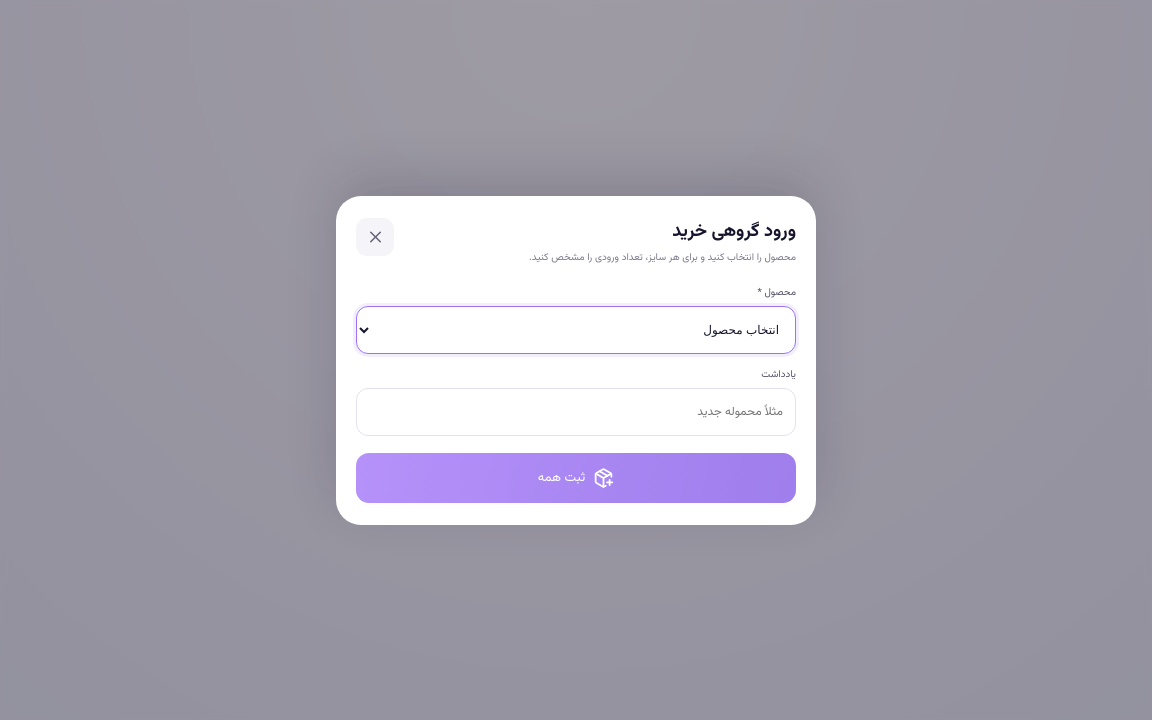
Test: BatchPurchaseModal › shows no default sizes and opens the sizes for the selected product category
Select "Air Max" in the dropdown labelled "محصول *" at point(576, 330), box top-left (356, 306), bottom-right (796, 354)
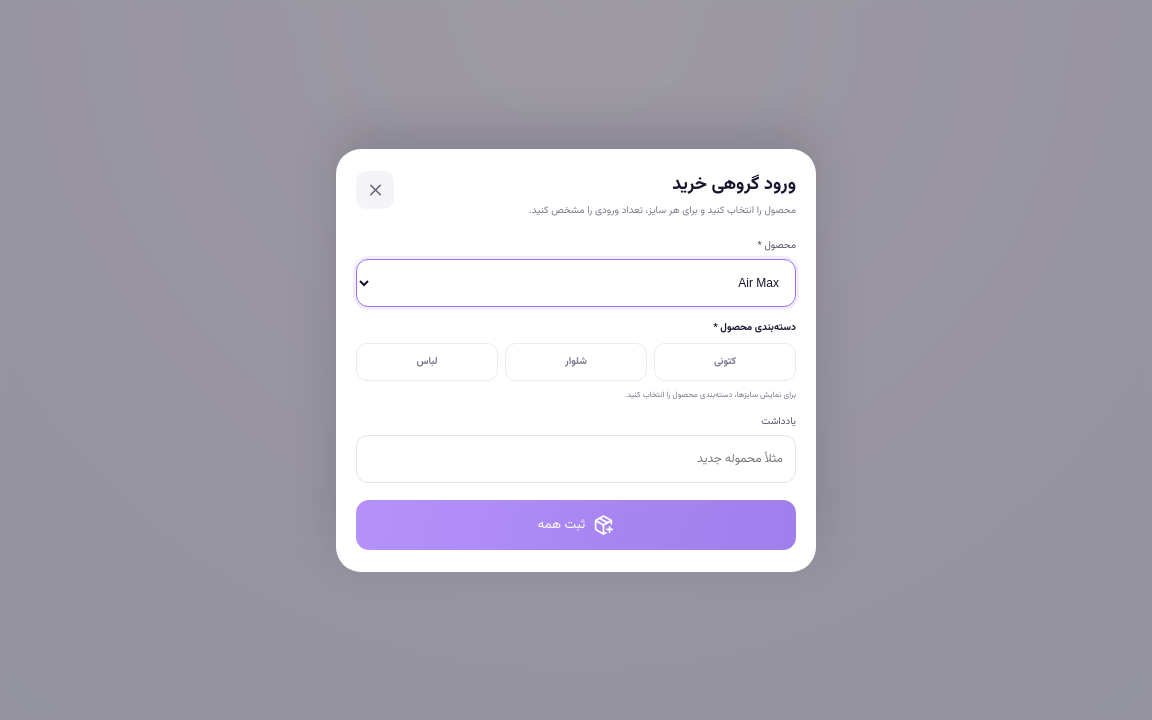
Check: the button with aria-label "انتخاب دسته کتونی" is shown, box top-left (654, 342), bottom-right (796, 380)
Check: the button with aria-label "انتخاب دسته شلوار" is shown
Check: the button with aria-label "انتخاب دسته لباس" is shown, box top-left (356, 342), bottom-right (498, 380)
Click the button with aria-label "انتخاب دسته شلوار" at point(576, 362), box top-left (505, 342), bottom-right (647, 380)
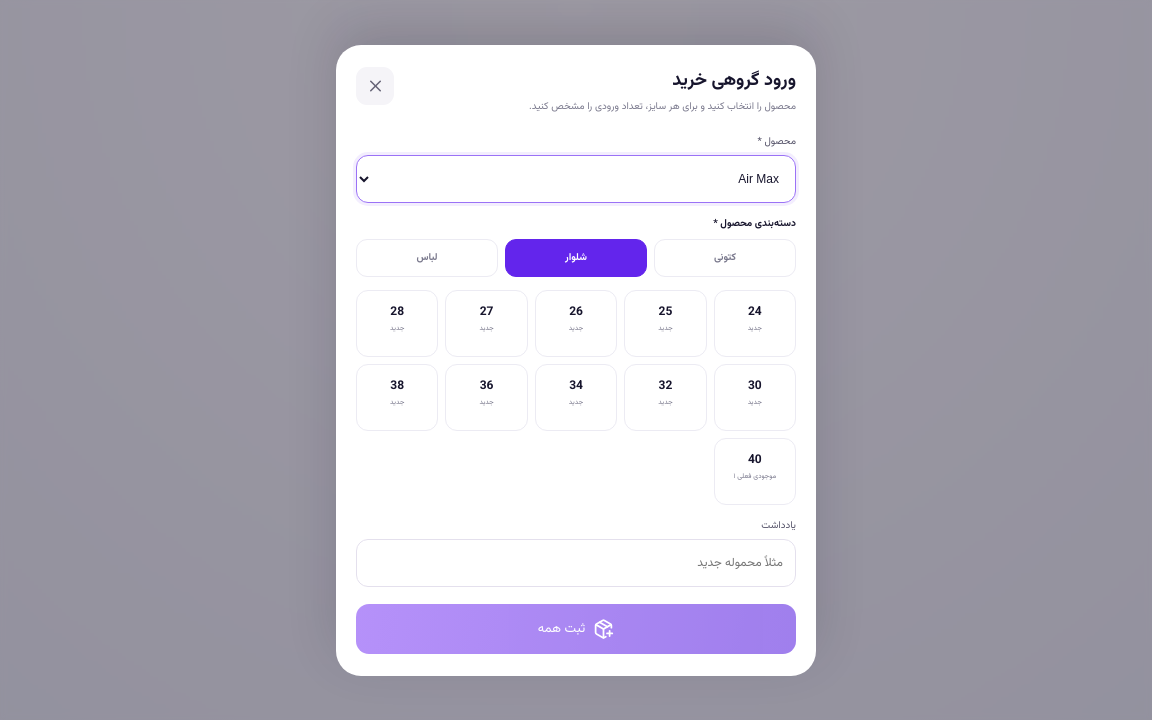
Check: the button with aria-label "افزایش سایز 24" is shown
Check: the button with aria-label "افزایش سایز 40" is shown, box top-left (714, 438), bottom-right (796, 504)
Click the button with aria-label "افزایش سایز 24" at point(755, 323), box top-left (714, 290), bottom-right (796, 356)
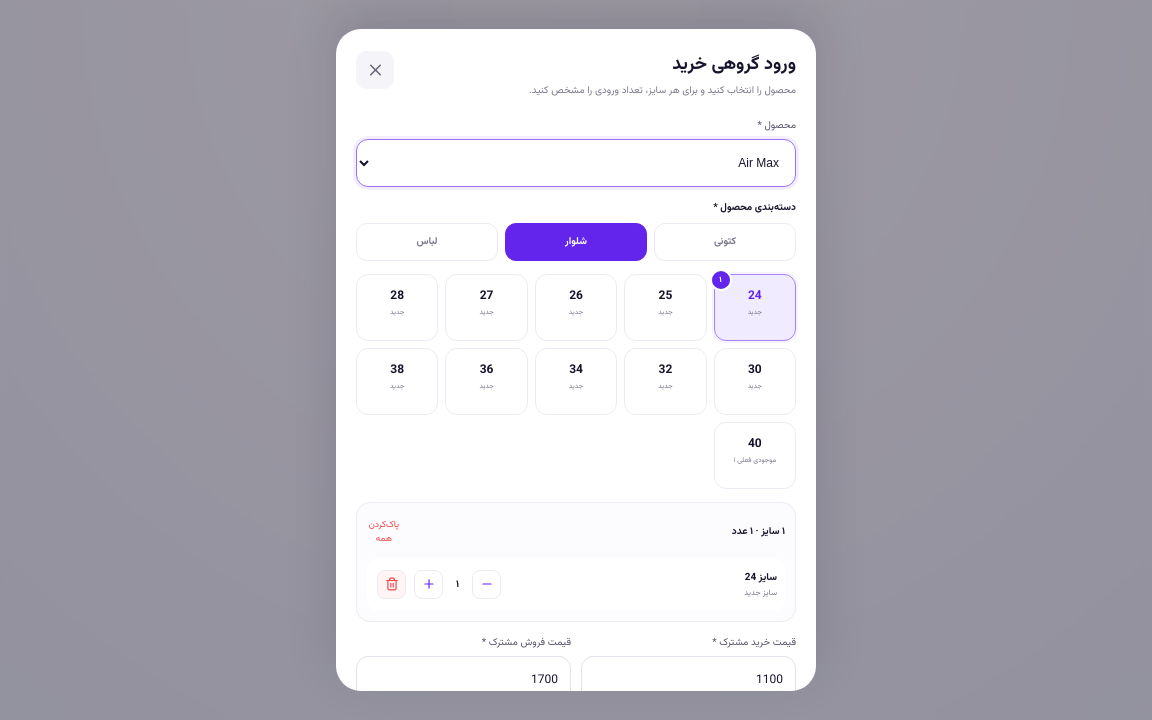
Click the button with aria-label "انتخاب دسته لباس" at point(427, 242), box top-left (356, 223), bottom-right (498, 261)
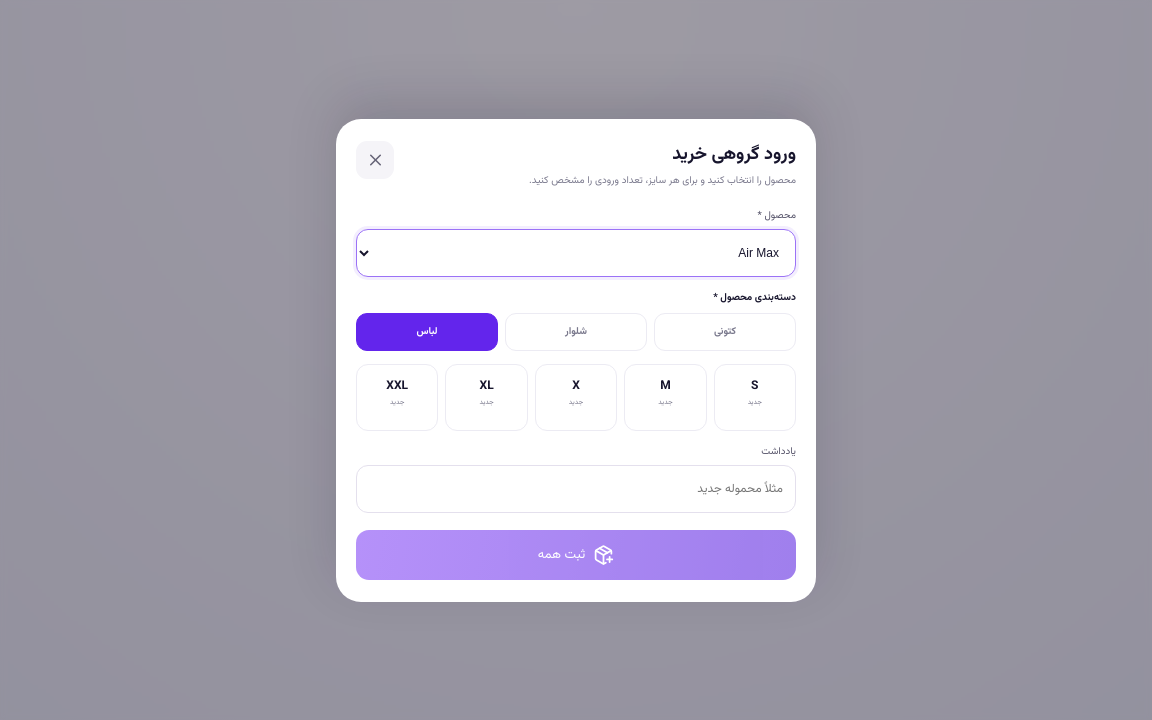
Check: the button "ثبت همه" is disabled, box top-left (356, 530), bottom-right (796, 580)
